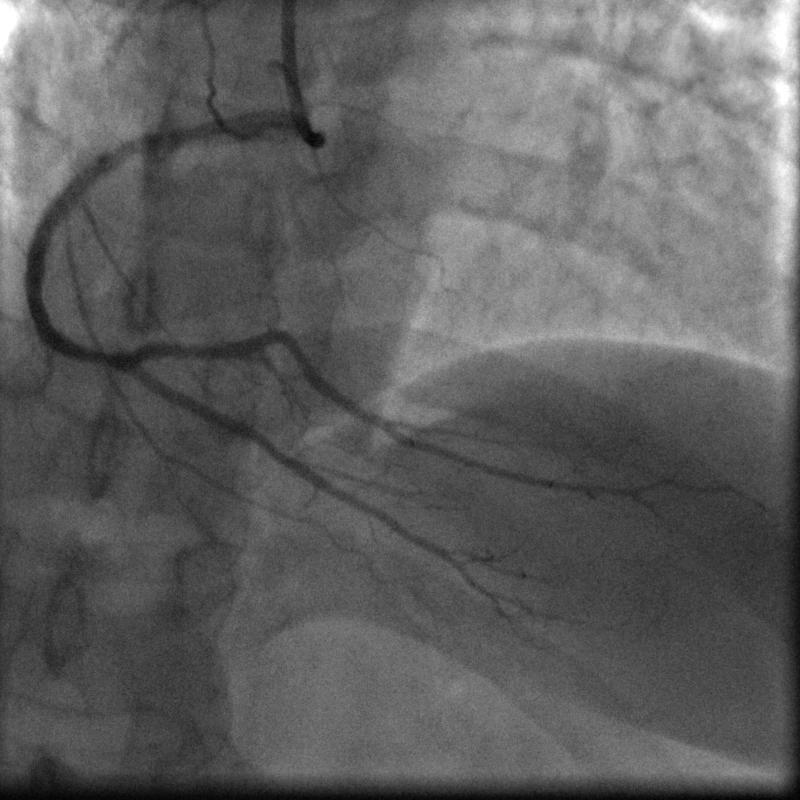Stenosis: (88, 346, 123, 369)
